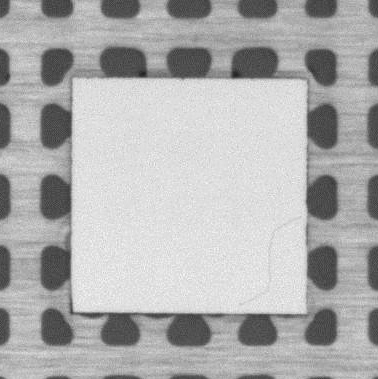DIE_CRACK: (238, 215, 304, 305)
